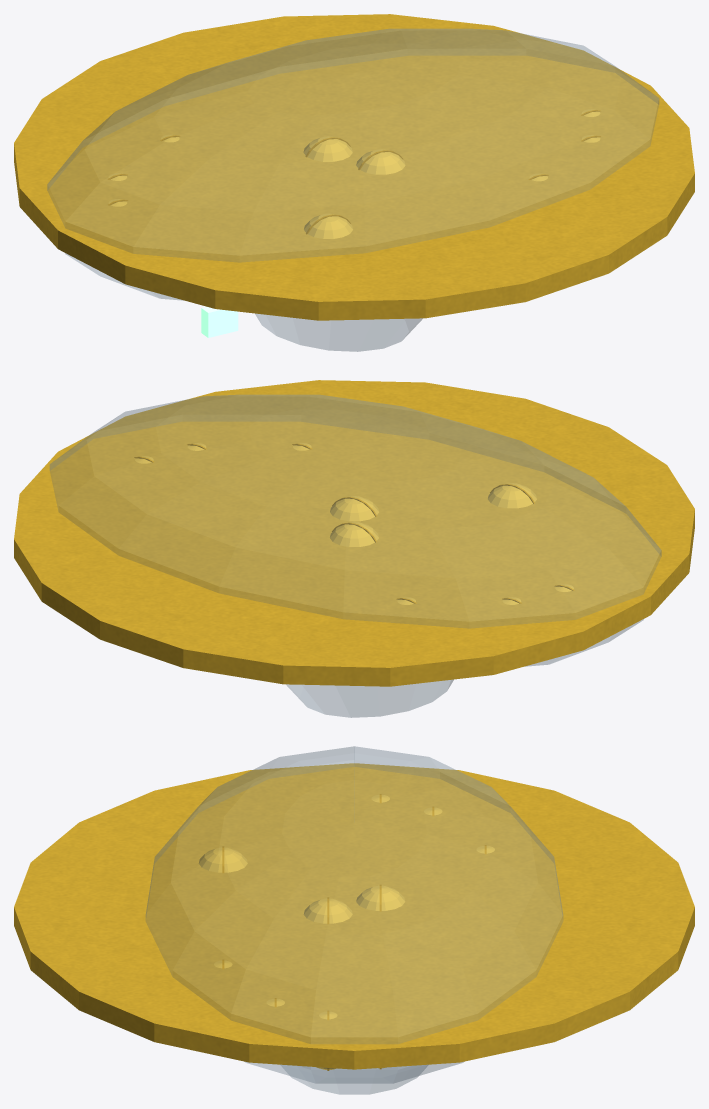
Rendered from hopper_loader_v2.glb.
3 renders of one model, top to bottom at view 1: azimuth 30°, elevation 25°; view 2: azimuth 150°, elevation 25°; view 3: azimuth 270°, elevation 25°, orthographic.
Visible parts, largest first — view 1: hopper_loader_mesh, paintball_38, paintball_39, paintball_37; view 2: hopper_loader_mesh, paintball_37, paintball_39, paintball_38; view 3: hopper_loader_mesh, paintball_37, paintball_38, paintball_39.
Boxes of the visible parts, x1,y1,x2,y2 form: hopper_loader_mesh: (14,14,694,351); paintball_38: (303,136,352,161); paintball_39: (356,149,405,174); paintball_37: (304,213,352,238); hopper_loader_mesh: (14,380,694,717); paintball_37: (488,483,536,508); paintball_39: (330,496,378,521); paintball_38: (330,521,378,546); hopper_loader_mesh: (14,746,694,1094); paintball_37: (198,846,247,873); paintball_38: (356,884,405,911); paintball_39: (303,897,352,924).
Bounding box in the file's own units: 0.198 × 0.0805 × 0.198.
Materials: 5 (1 with a texture image).
